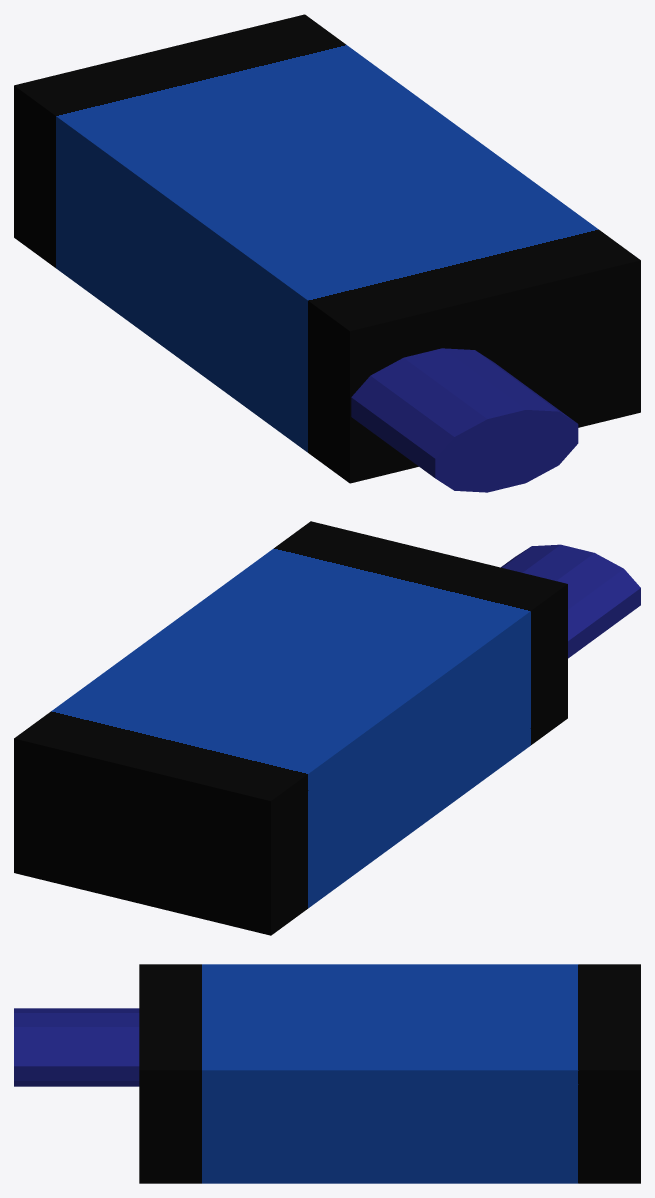
Rendered from VapePen.gltf.
The picture shows the model from 3 angles, top to bottom: view 1: azimuth 30°, elevation 25°; view 2: azimuth 150°, elevation 25°; view 3: azimuth 270°, elevation 25°; orthographic projection. The views are drawn at different scales.
Parts seen in each view (by area): view 1: mesh, tube; view 2: mesh, tube; view 3: mesh, tube.
Part boxes in pixels (left/top/right/bottom): mesh: left=14, top=14, right=640, bottom=483; tube: left=351, top=348, right=578, bottom=492; mesh: left=14, top=521, right=567, bottom=935; tube: left=501, top=544, right=640, bottom=658; mesh: left=139, top=964, right=640, bottom=1183; tube: left=14, top=1008, right=139, bottom=1086.
Size of the model in its own units: 0.25 by 0.125 by 0.625.
1 material, 1 textured.
